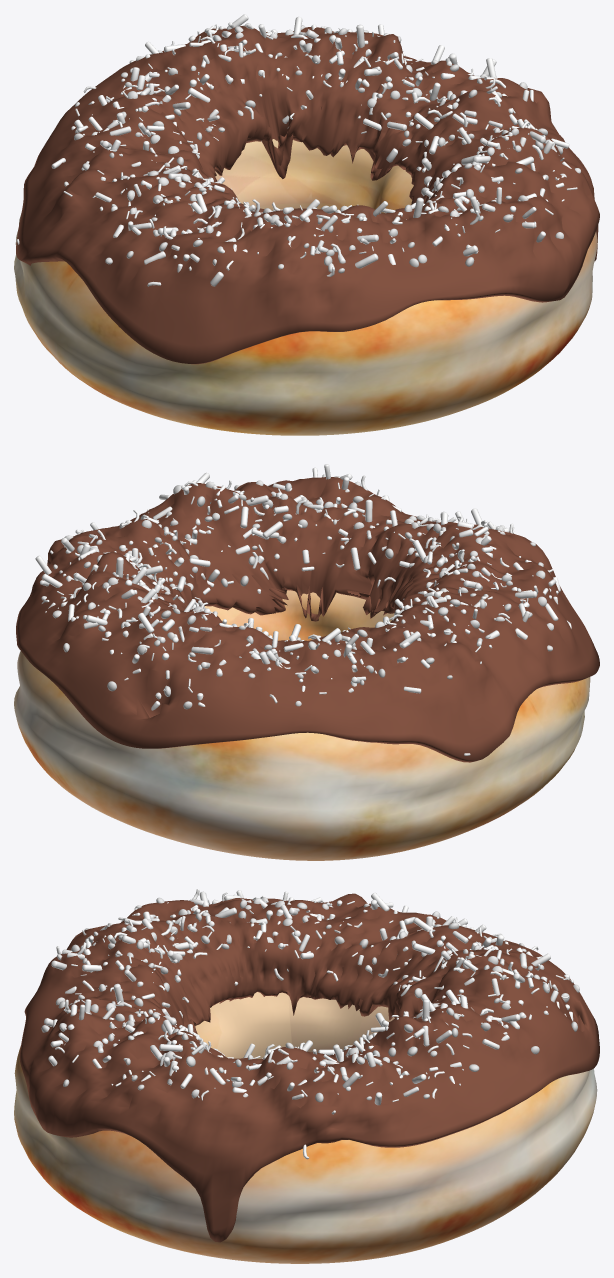
The model's file is donut.glb.
3 renders of one model, top to bottom at view 1: azimuth 30°, elevation 25°; view 2: azimuth 150°, elevation 25°; view 3: azimuth 270°, elevation 25°, orthographic. The views are drawn at different scales.
Parts seen in each view (by area): view 1: icing.001, Donut; view 2: icing.001, Donut; view 3: icing.001, Donut.
Part boxes in pixels (x1,y1,x2,y2): icing.001: [16, 26, 599, 364]; Donut: [14, 139, 597, 435]; icing.001: [16, 477, 599, 762]; Donut: [14, 590, 590, 860]; icing.001: [19, 893, 599, 1242]; Donut: [14, 992, 597, 1263].
Size of the model in its own units: 0.3897 by 0.1737 by 0.4001.
3 materials, 1 textured.
